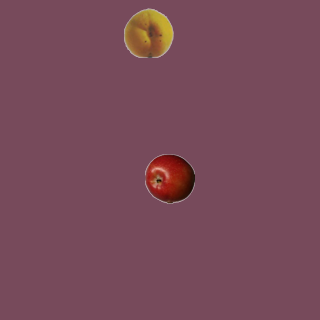Apple Braeburn: (144, 153, 194, 203)
Peach 2: (123, 7, 173, 57)
